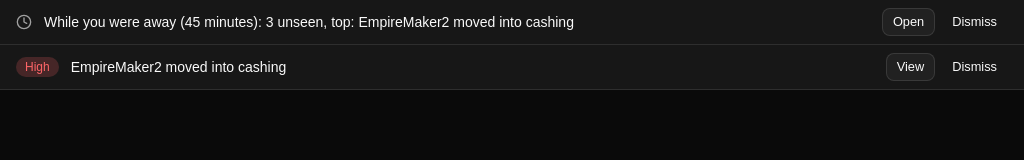
the "while you were away" line › dismisses only the summary and leaves the High rows alone
This screenshot has width=1024, height=160.
Step 1. Click the button "Dismiss" next to "Open" → [975, 22], box 941,8 -> 1008,36
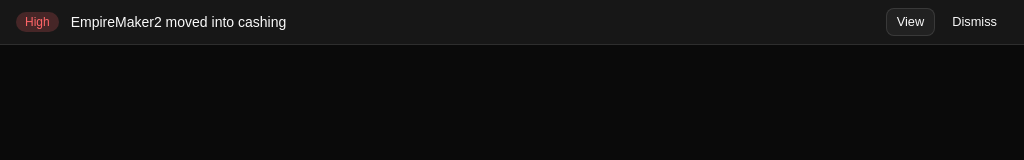
Now the text "away" is gone
Now the number of list items is 1, box 0,0 -> 1023,44
